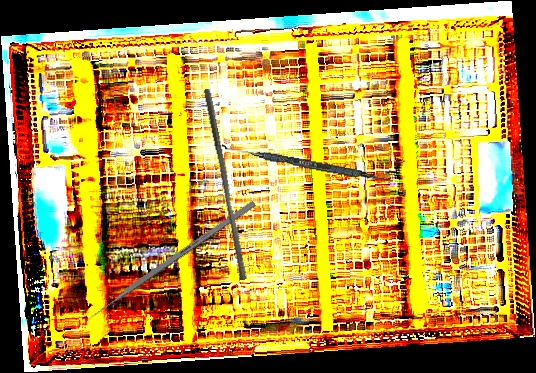Pusher: (81, 199, 257, 326), (195, 88, 255, 281)
Spatula Surgical: (220, 143, 395, 185)
